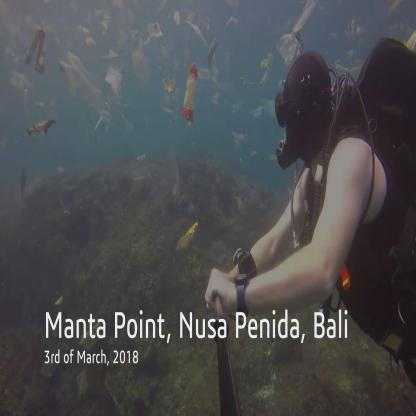Rác: (60, 48, 102, 107), (180, 59, 203, 126), (24, 20, 48, 78), (94, 10, 126, 46), (290, 0, 322, 36), (130, 47, 154, 90), (184, 15, 212, 51), (173, 216, 199, 254), (24, 112, 57, 140), (275, 29, 299, 61), (106, 63, 124, 105), (161, 74, 180, 110), (207, 66, 223, 108), (92, 110, 120, 129), (146, 18, 166, 43), (230, 126, 250, 150), (259, 53, 274, 82), (250, 96, 264, 124), (224, 13, 240, 35), (171, 9, 182, 26)
